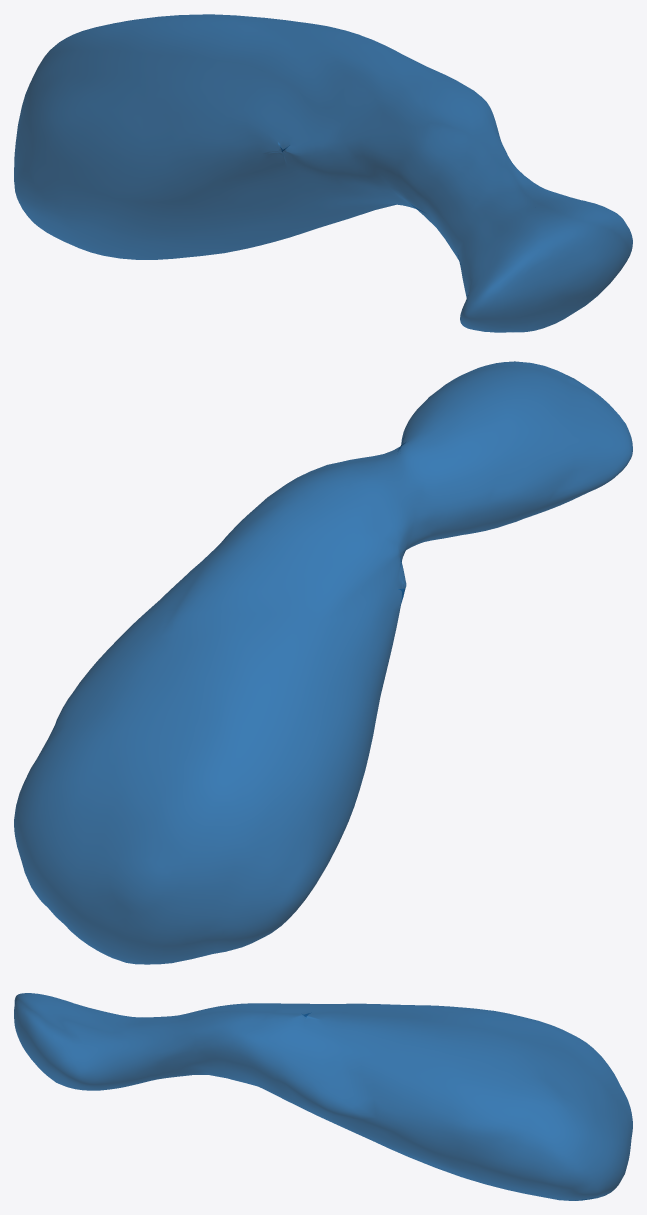
Rendered from spine-21-hr.obj.
3 renders of one model, top to bottom at view 1: azimuth 30°, elevation 25°; view 2: azimuth 150°, elevation 25°; view 3: azimuth 270°, elevation 25°, orthographic. The views are drawn at different scales.
Parts seen in each view (by area): view 1: spine-21-hr_Cube.187; view 2: spine-21-hr_Cube.187; view 3: spine-21-hr_Cube.187.
Part boxes in pixels (x1,y1,x2,y2): spine-21-hr_Cube.187: [14, 14, 632, 332]; spine-21-hr_Cube.187: [14, 361, 632, 964]; spine-21-hr_Cube.187: [14, 993, 632, 1200].
Bounding box in the file's own units: 0.6815 × 0.6739 × 1.88.
